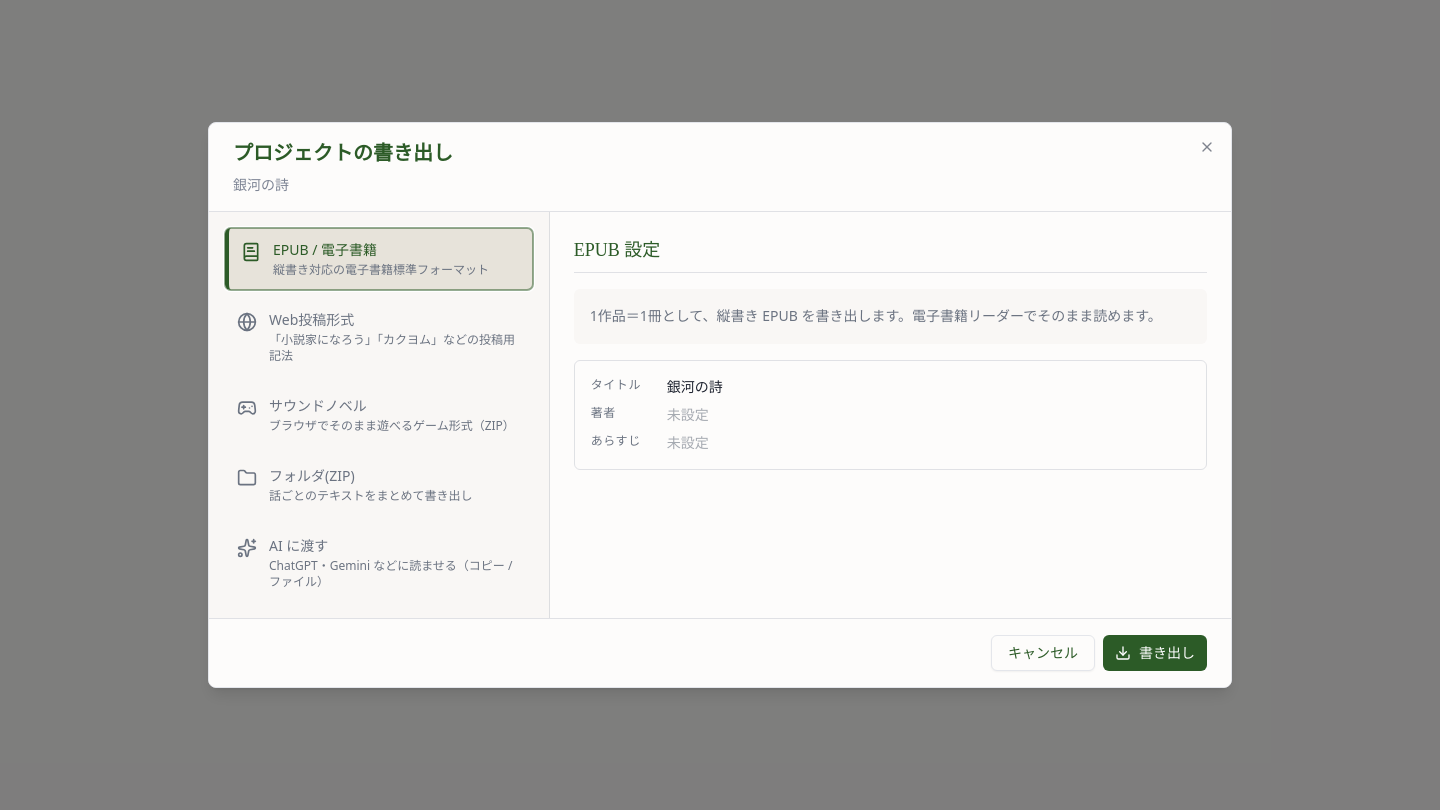
it: ExportDialog（サウンドノベル） › 判定中（loading）は確認中の表示で、誤って解禁しない
Step 1. Click the text "サウンドノベル" → (318, 406), box [269, 396, 367, 415]
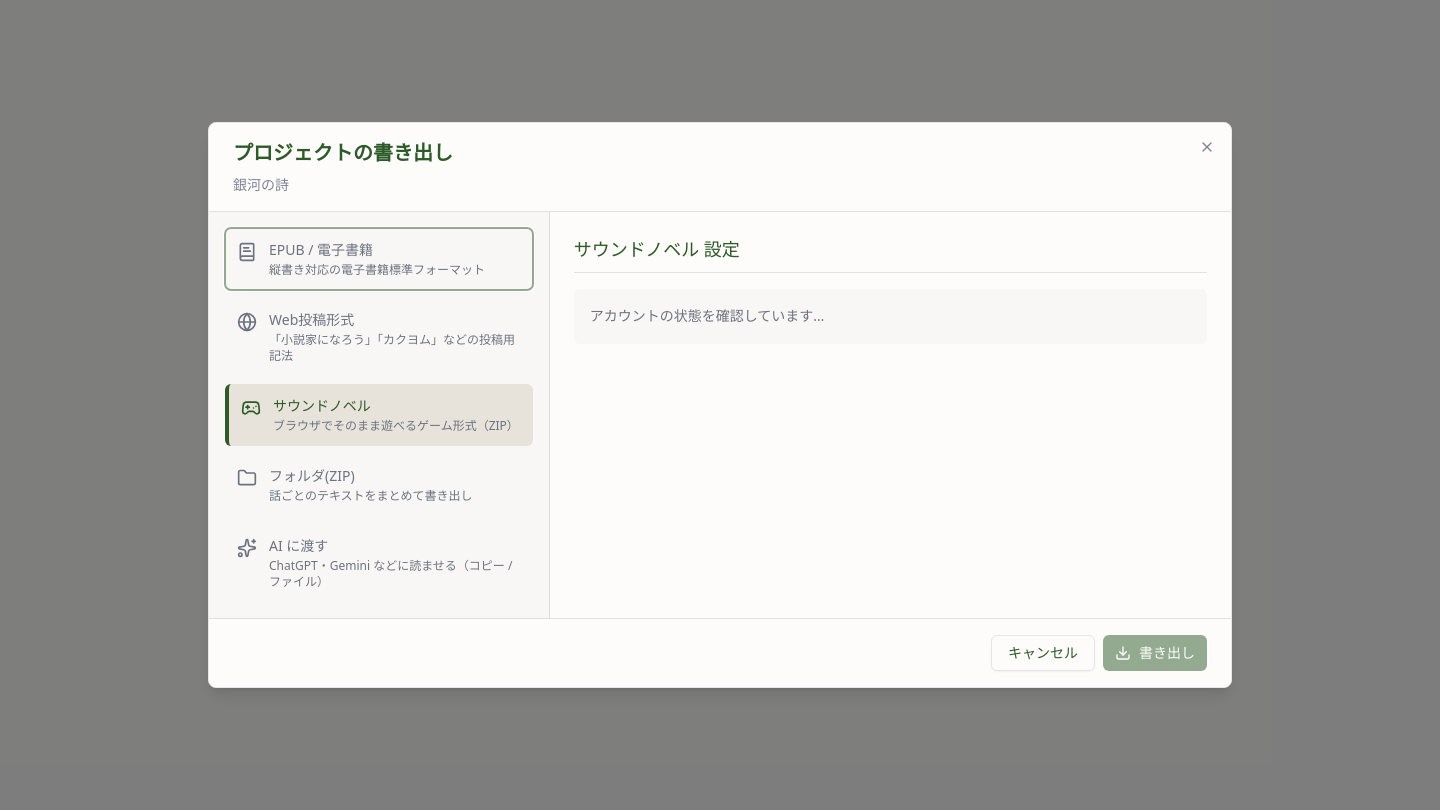
Result: the text "アカウントの状態を確認しています…" is shown at [574, 289, 1207, 344]
Result: the button "書き出し" is disabled at [1103, 635, 1207, 671]
